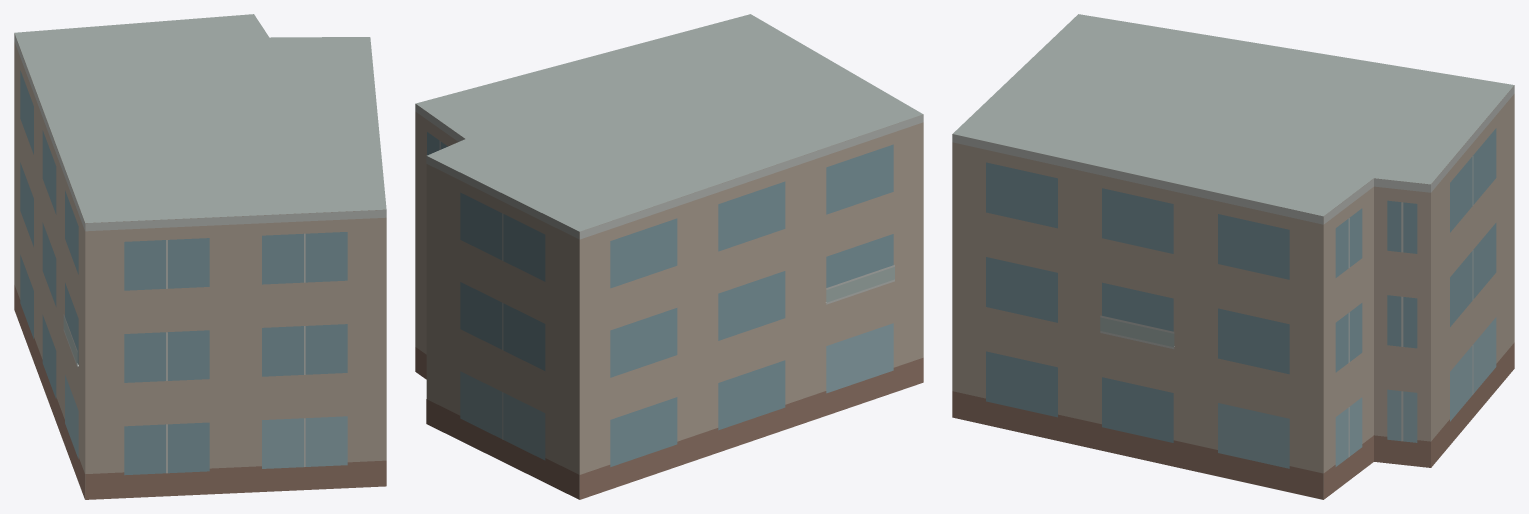
The model's file is survey-upis-32511301.glb.
3 views of the same model, side by side, from view 1: azimuth 30°, elevation 25°; view 2: azimuth 150°, elevation 25°; view 3: azimuth 270°, elevation 25° (orthographic). The views are drawn at different scales.
Visible parts, largest first — view 1: survey-upis-32511301.tmp; view 2: survey-upis-32511301.tmp; view 3: survey-upis-32511301.tmp.
Boxes of the visible parts, x1,y1,x2,y2 form: survey-upis-32511301.tmp: (14,14,386,499); survey-upis-32511301.tmp: (415,14,923,499); survey-upis-32511301.tmp: (952,14,1514,499).
Bounding box in the file's own units: 12.72 × 8.3 × 14.93.
